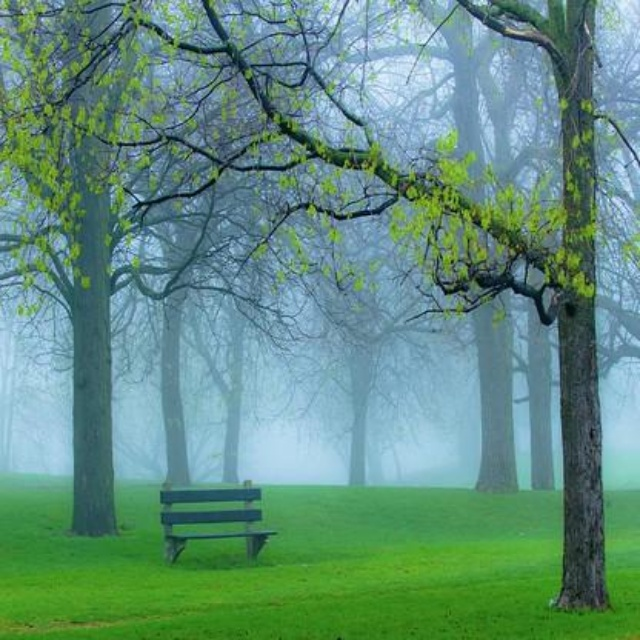obstacle: (146, 480, 278, 574)
